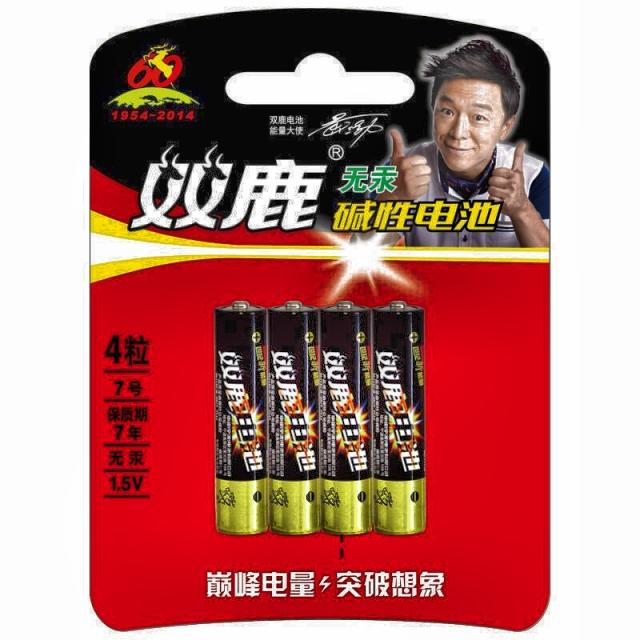Non-Valuable Waste - Batteries: (372, 301, 426, 534), (215, 301, 268, 535), (269, 301, 320, 534), (320, 301, 371, 534)
